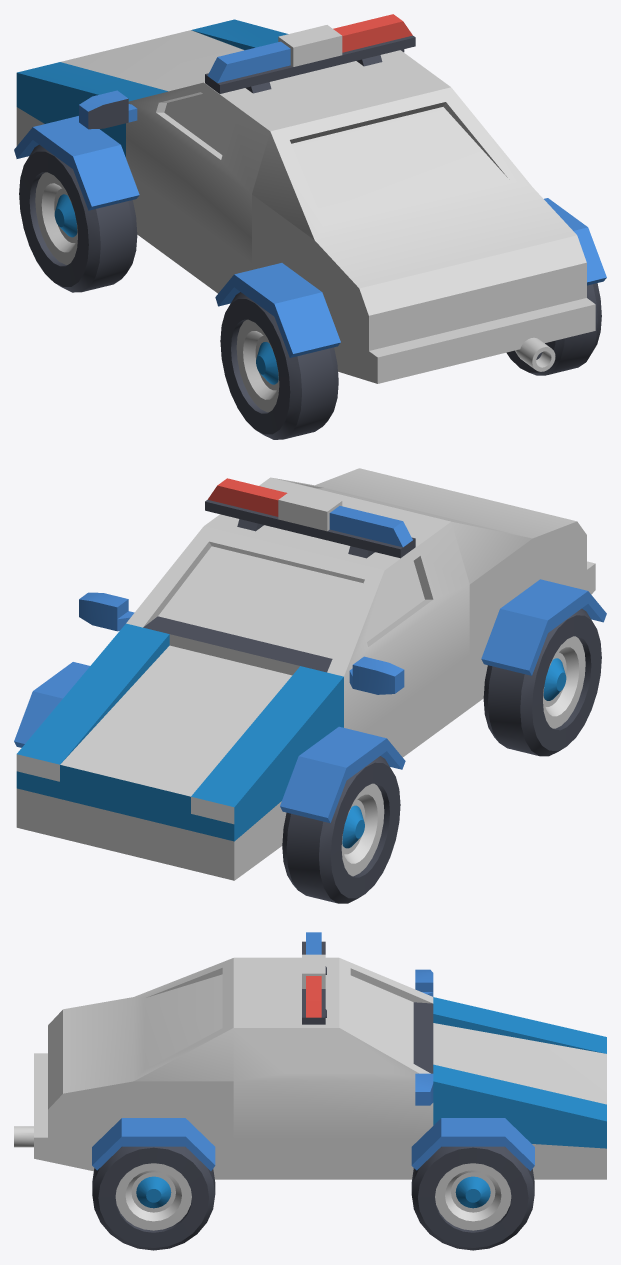
File: Traffic Police.fbx
The picture shows the model from 3 angles, top to bottom: view 1: azimuth 30°, elevation 25°; view 2: azimuth 150°, elevation 25°; view 3: azimuth 270°, elevation 25°; orthographic projection. The views are drawn at different scales.
Visible parts, largest first — view 1: trunk_default_185, windshield_default_183, hood_sleek_187, wheel_colored_189, wheel_colored_190, detail_policeLights_186, detail_fenderSquare_181, detail_fenderSquare_179, wheel_colored_191, detail_mirror_155, detail_fenderSquare_163, detail_exhaust_168; view 2: hood_sleek_187, windshield_default_183, trunk_default_185, wheel_colored_189, wheel_colored_190, detail_policeLights_186, detail_fenderSquare_179, detail_fenderSquare_181, detail_fenderSquare_165, detail_mirror_155, detail_mirror_156; view 3: windshield_default_183, trunk_default_185, hood_sleek_187, wheel_colored_192, wheel_colored_191, detail_fenderSquare_165, detail_fenderSquare_163, detail_policeLights_186, detail_mirror_156, detail_mirror_155, detail_exhaust_168.
Part boxes in pixels (x1,y1,x2,y2): trunk_default_185: (252,87,595,383); windshield_default_183: (126,50,450,293); hood_sleek_187: (16,19,288,157); wheel_colored_189: (19,144,137,292); wheel_colored_190: (220,292,338,439); detail_policeLights_186: (205,14,415,93); detail_fenderSquare_181: (215,263,340,357); detail_fenderSquare_179: (14,116,139,210); wheel_colored_191: (506,283,601,375); detail_mirror_155: (79,90,137,129); detail_fenderSquare_163: (544,198,606,285); detail_exhaust_168: (515,337,555,371); hood_sleek_187: (16,623,343,880); windshield_default_183: (126,477,469,757); trunk_default_185: (273,468,595,708); wheel_colored_189: (282,756,400,903); wheel_colored_190: (483,608,601,756); detail_policeLights_186: (205,478,415,558); detail_fenderSquare_179: (280,726,405,823); detail_fenderSquare_181: (481,579,606,675); detail_fenderSquare_165: (14,662,89,747); detail_mirror_155: (349,656,404,694); detail_mirror_156: (79,592,134,631); windshield_default_183: (233,957,433,1179); trunk_default_185: (34,958,233,1179); hood_sleek_187: (433,997,606,1179); wheel_colored_192: (411,1146,534,1250); wheel_colored_191: (92,1146,215,1250); detail_fenderSquare_165: (411,1118,534,1170); detail_fenderSquare_163: (92,1118,215,1170); detail_policeLights_186: (302,932,326,1024); detail_mirror_156: (415,1073,433,1105); detail_mirror_155: (415,969,433,996); detail_exhaust_168: (14,1126,33,1147).
Size of the model in its own units: 14.5 by 12.67 by 29.7.
